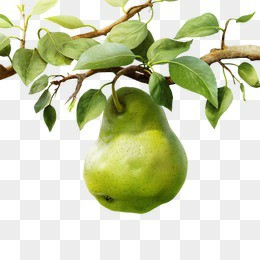pear: (84, 87, 187, 212)
